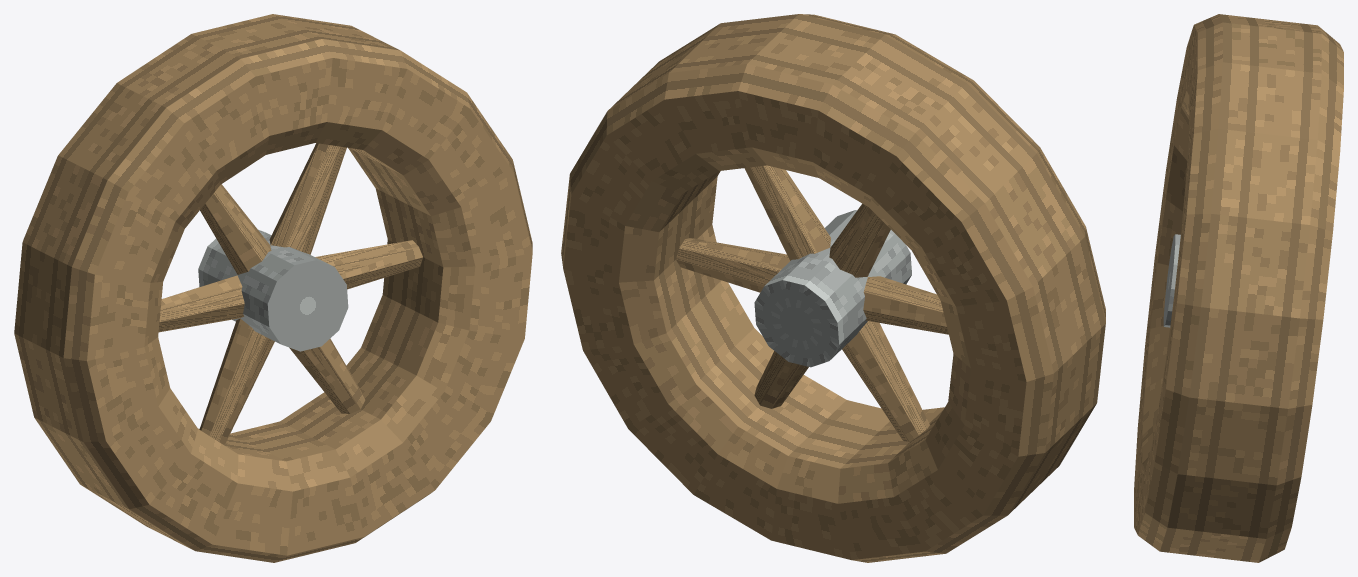
File: wheel_wood.glb
3 renders of one model, left to right at view 1: azimuth 30°, elevation 25°; view 2: azimuth 150°, elevation 25°; view 3: azimuth 270°, elevation 25°, orthographic. The views are drawn at different scales.
Visible parts, largest first — view 1: block_wheel cross section, block_radial spoke (×6), block_wheel hub; view 2: block_wheel cross section, block_radial spoke (×6), block_wheel hub; view 3: block_wheel cross section, block_wheel hub.
Boxes of the visible parts, <box> form: block_wheel cross section: <box>14,14,532,562</box>; block_radial spoke (×6): <box>158,143,422,444</box>; block_wheel hub: <box>198,229,348,351</box>; block_wheel cross section: <box>561,14,1105,562</box>; block_radial spoke (×6): <box>676,165,948,441</box>; block_wheel hub: <box>754,210,911,367</box>; block_wheel cross section: <box>1134,14,1343,562</box>; block_wheel hub: <box>1163,234,1180,327</box>.
Bounding box in the file's own units: 0.5024 × 0.5024 × 0.1942.
1 material, 1 textured.
